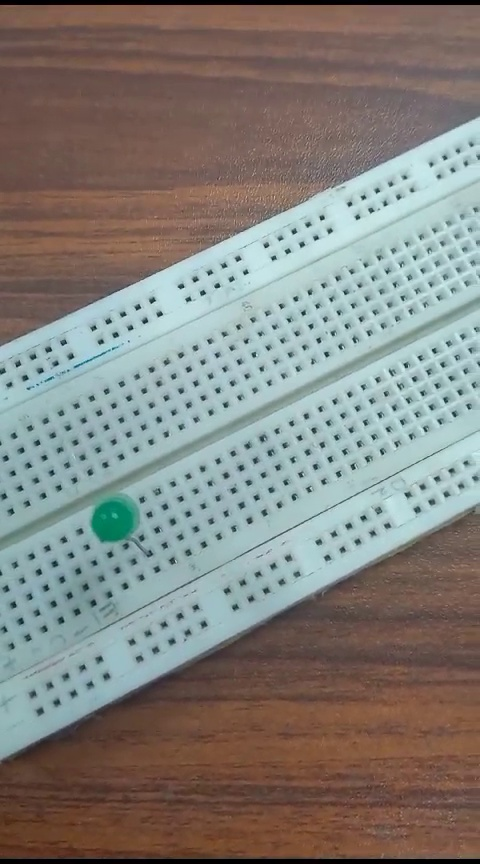LED: (87, 491, 144, 541)
